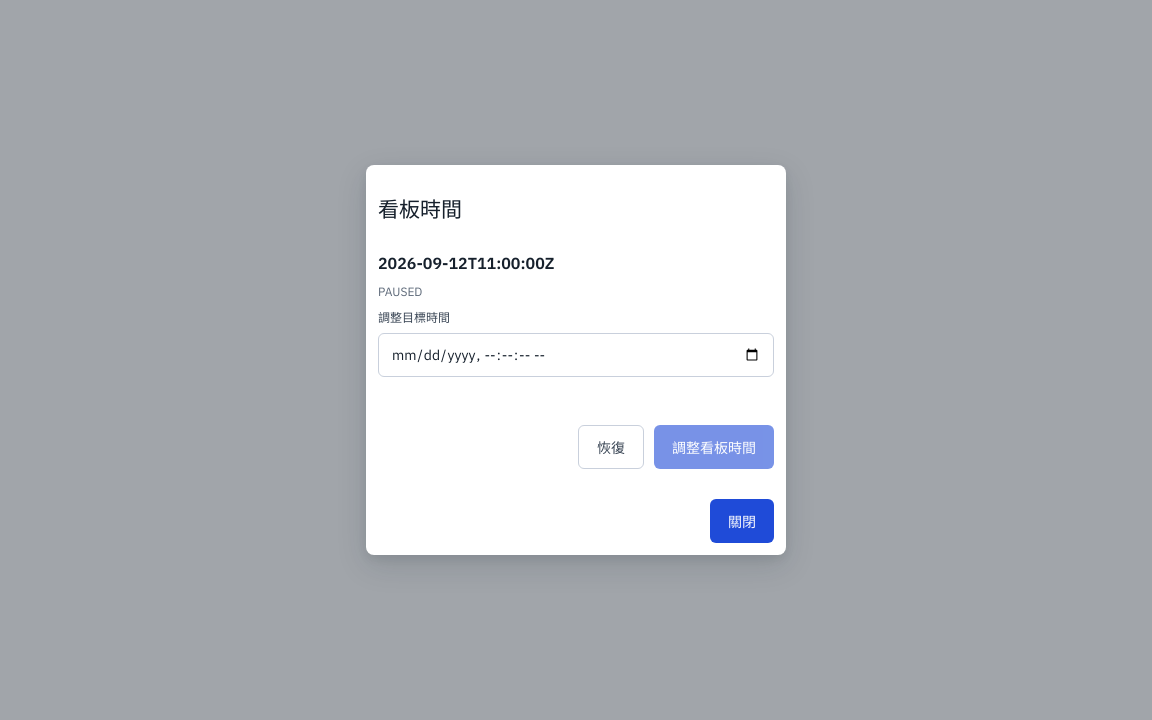
Test: s-board-clock-control › 恢復看板時間後，畫面顯示狀態為 REALTIME，觸發 uc-pause-resume-board-clock
The width and height of the screenshot is (1152, 720).
Click the button "恢復" at (611, 447), box [578,425,644,469]
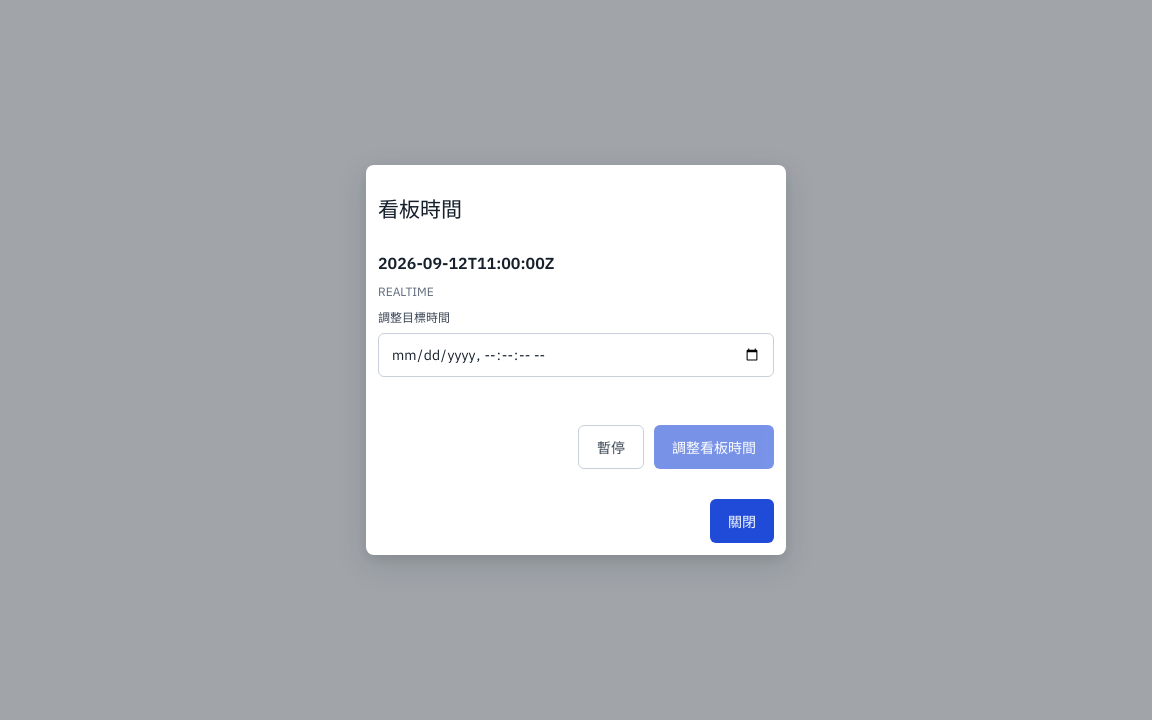
Now the text with test id "clock-control-status" reads "REALTIME", box [378,284,434,299]
